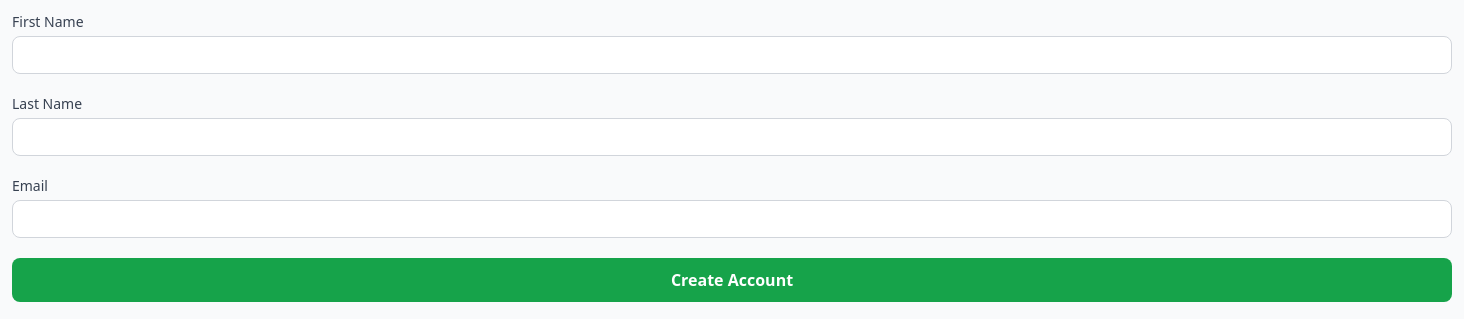
Test case: RegisterForm › shows "Registration Successful!" message on success
In the field labelled "First Name": (732, 55) [12,36,1452,74], type "Jane"
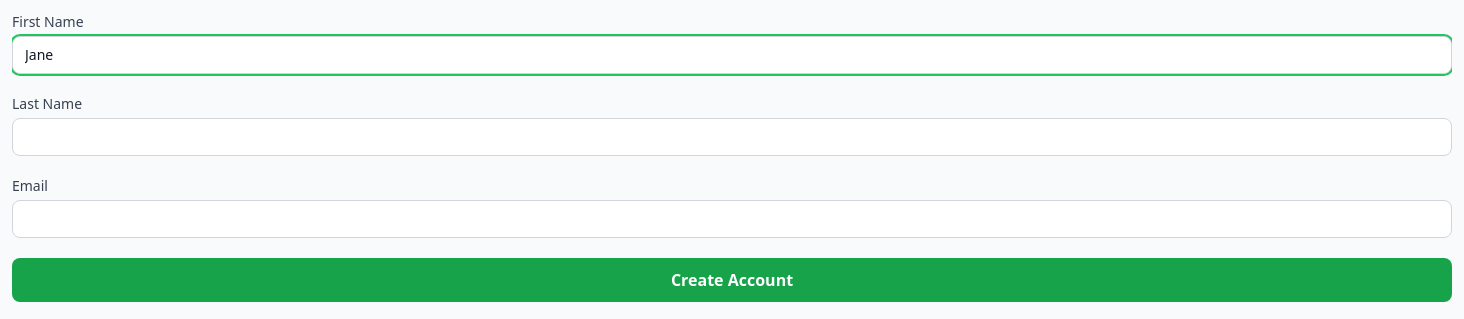
In the field labelled "Last Name": (732, 137) [12,118,1452,156], type "Smith"
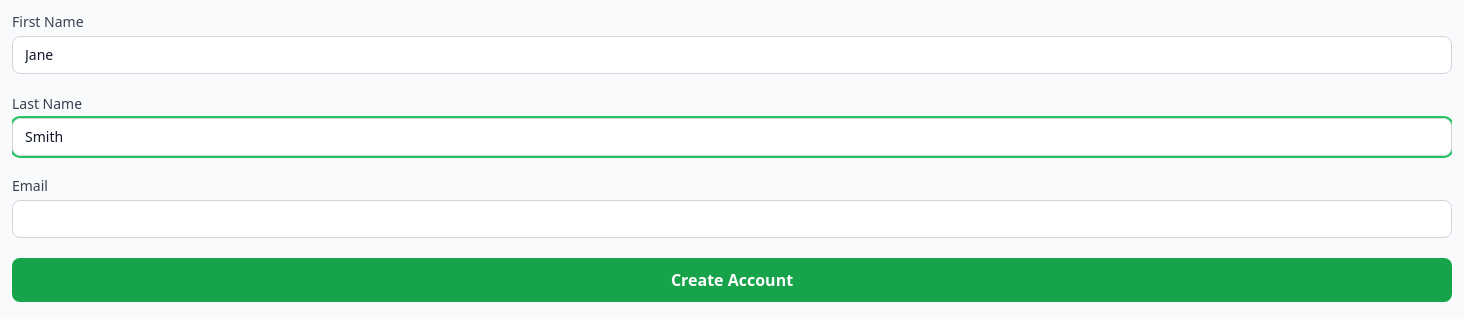
In the field labelled "Email": (732, 219) [12,200,1452,238], type "jane@example.com"
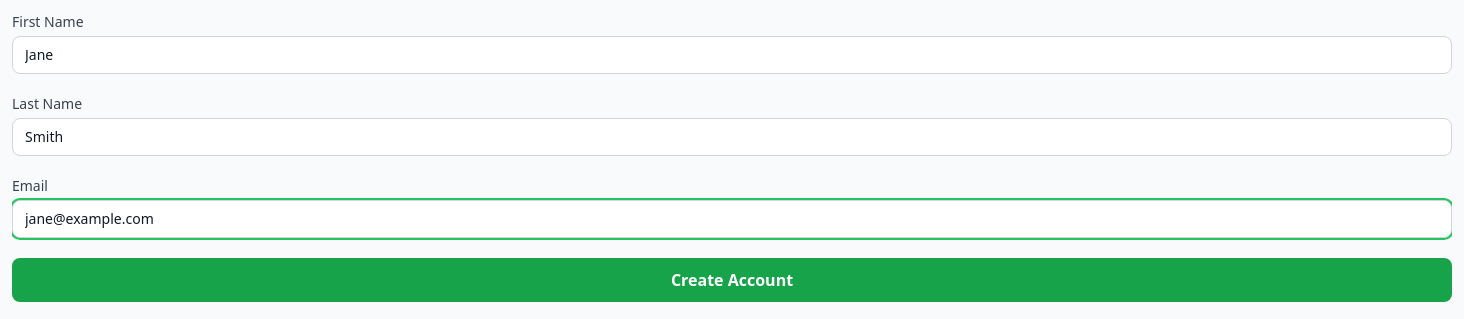
Click the button "Create Account": (732, 280) [12,258,1452,302]
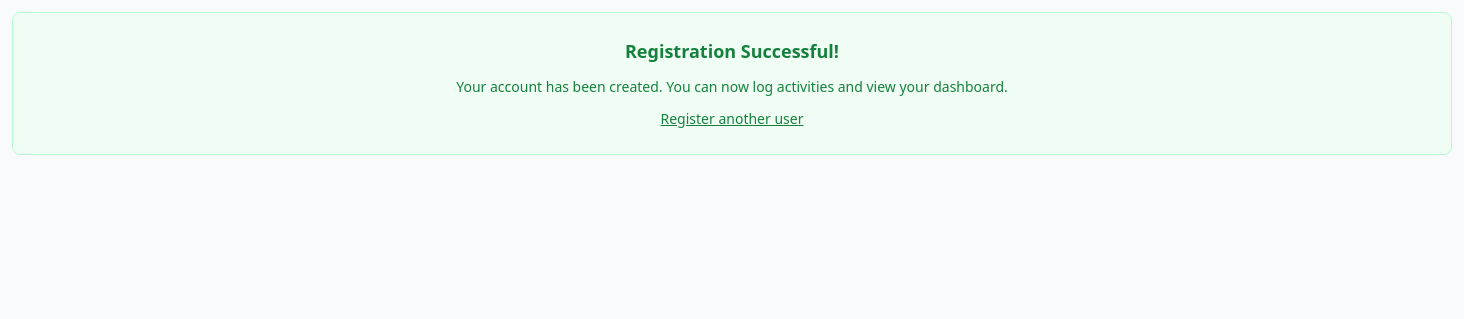
Check: the text "Registration Successful!" is shown, box [625,39,839,63]
